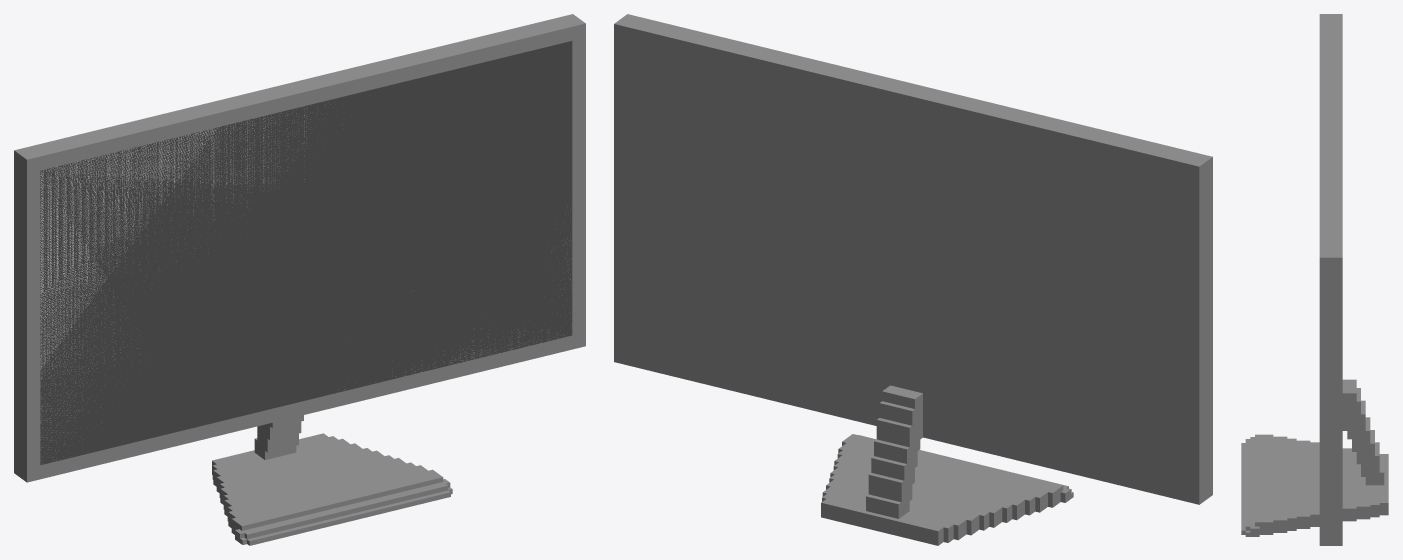
Rendered from Computer2.fbx.
3 views of the same model, side by side, from view 1: azimuth 30°, elevation 25°; view 2: azimuth 150°, elevation 25°; view 3: azimuth 270°, elevation 25° (orthographic). The views are drawn at different scales.
Visible parts, largest first — view 1: Computer2, Computer2.001, Computer2.002; view 2: Computer2.001; view 3: Computer2.001.
Boxes of the visible parts, x1,y1,x2,y2 form: Computer2: [40, 41, 572, 465]; Computer2.001: [14, 14, 585, 545]; Computer2.002: [40, 113, 570, 449]; Computer2.001: [614, 14, 1212, 545]; Computer2.001: [1241, 14, 1388, 545].
Size of the model in its own units: 12.5 by 8.5 by 3.2.
